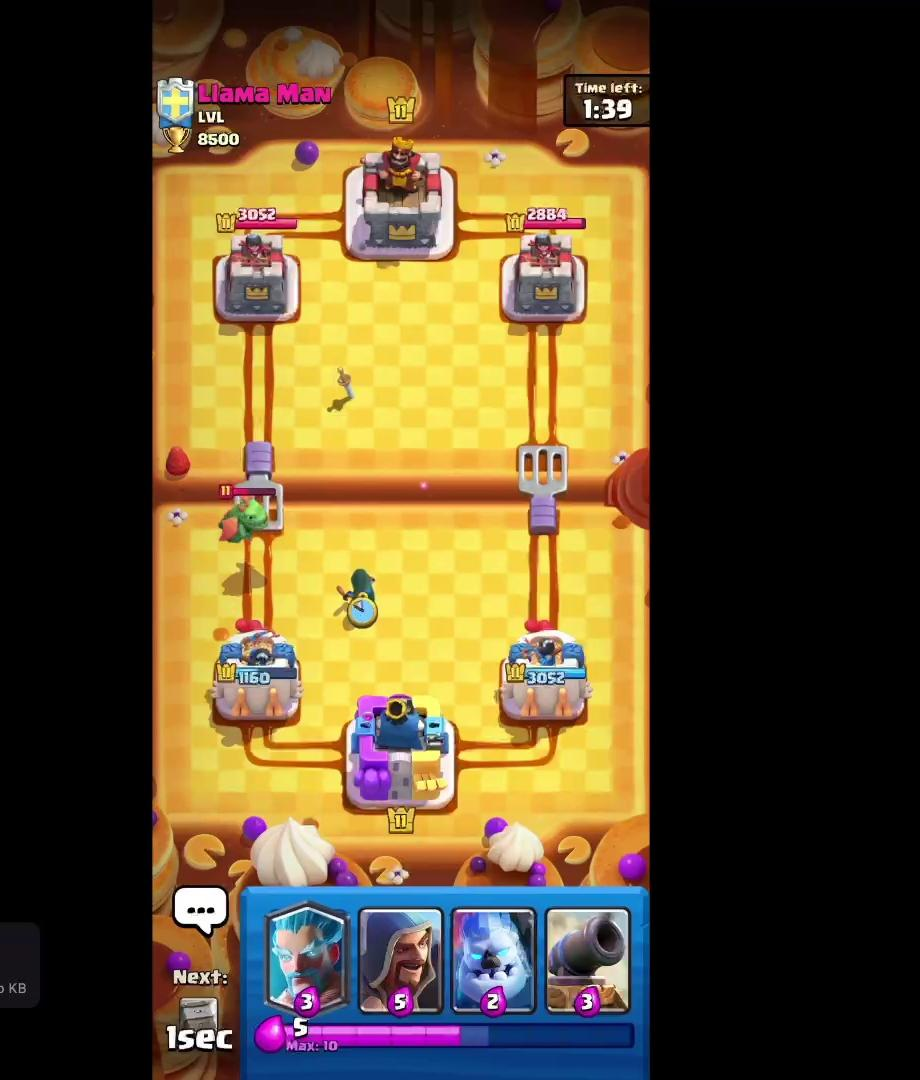Baby Dragon: (204, 469, 288, 553)
